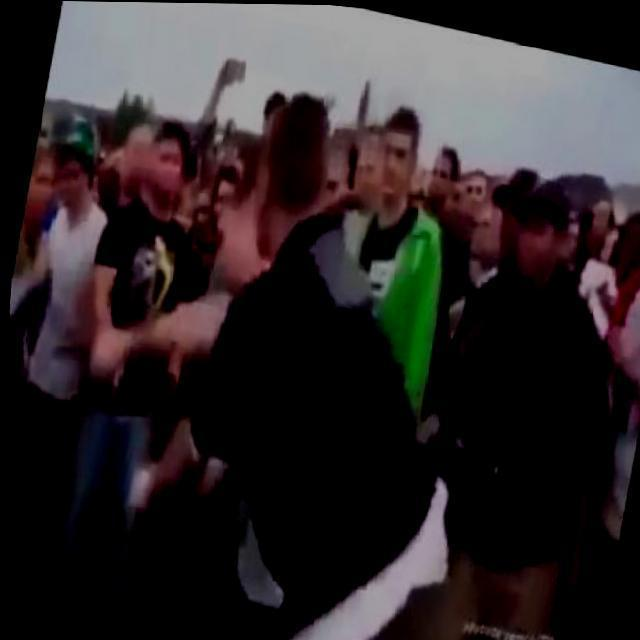fight: (64, 56, 492, 550)
